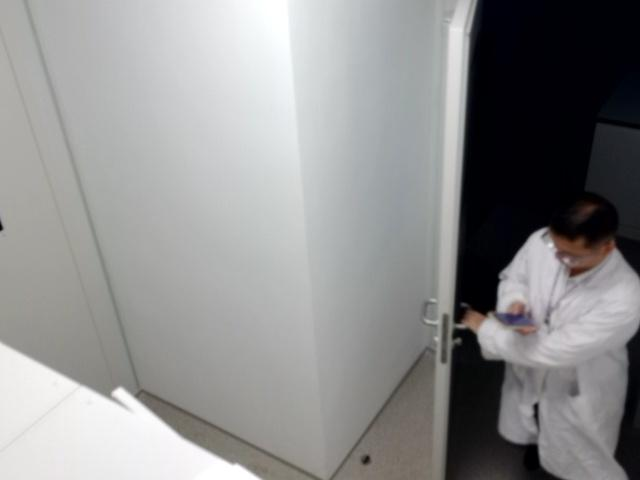Lab_coat: (462, 192, 639, 479)
